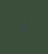two: (19, 19, 26, 34)
